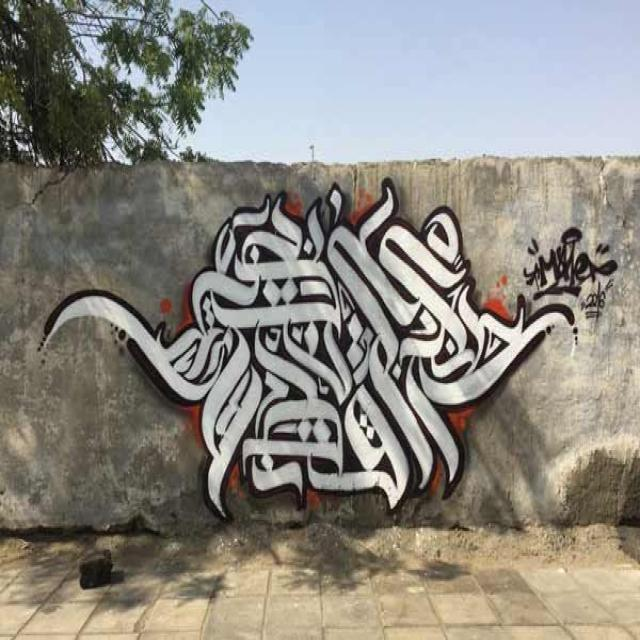-: (42, 177, 580, 520), (524, 226, 618, 320)
